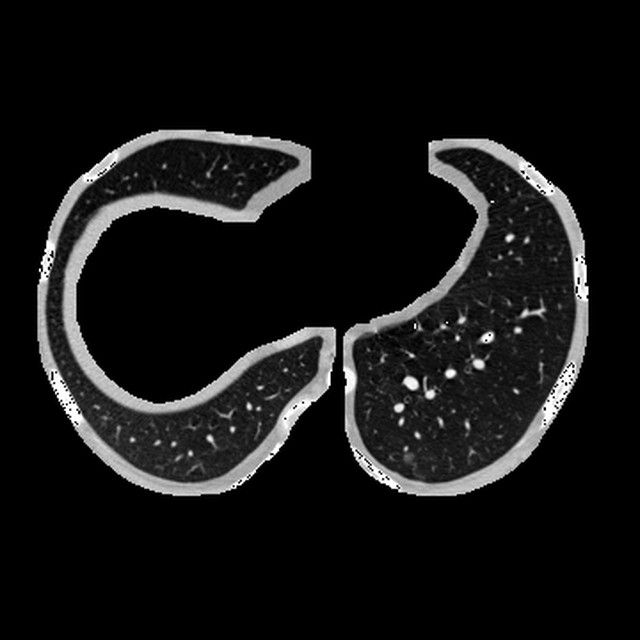PN: (404, 452, 414, 462)
